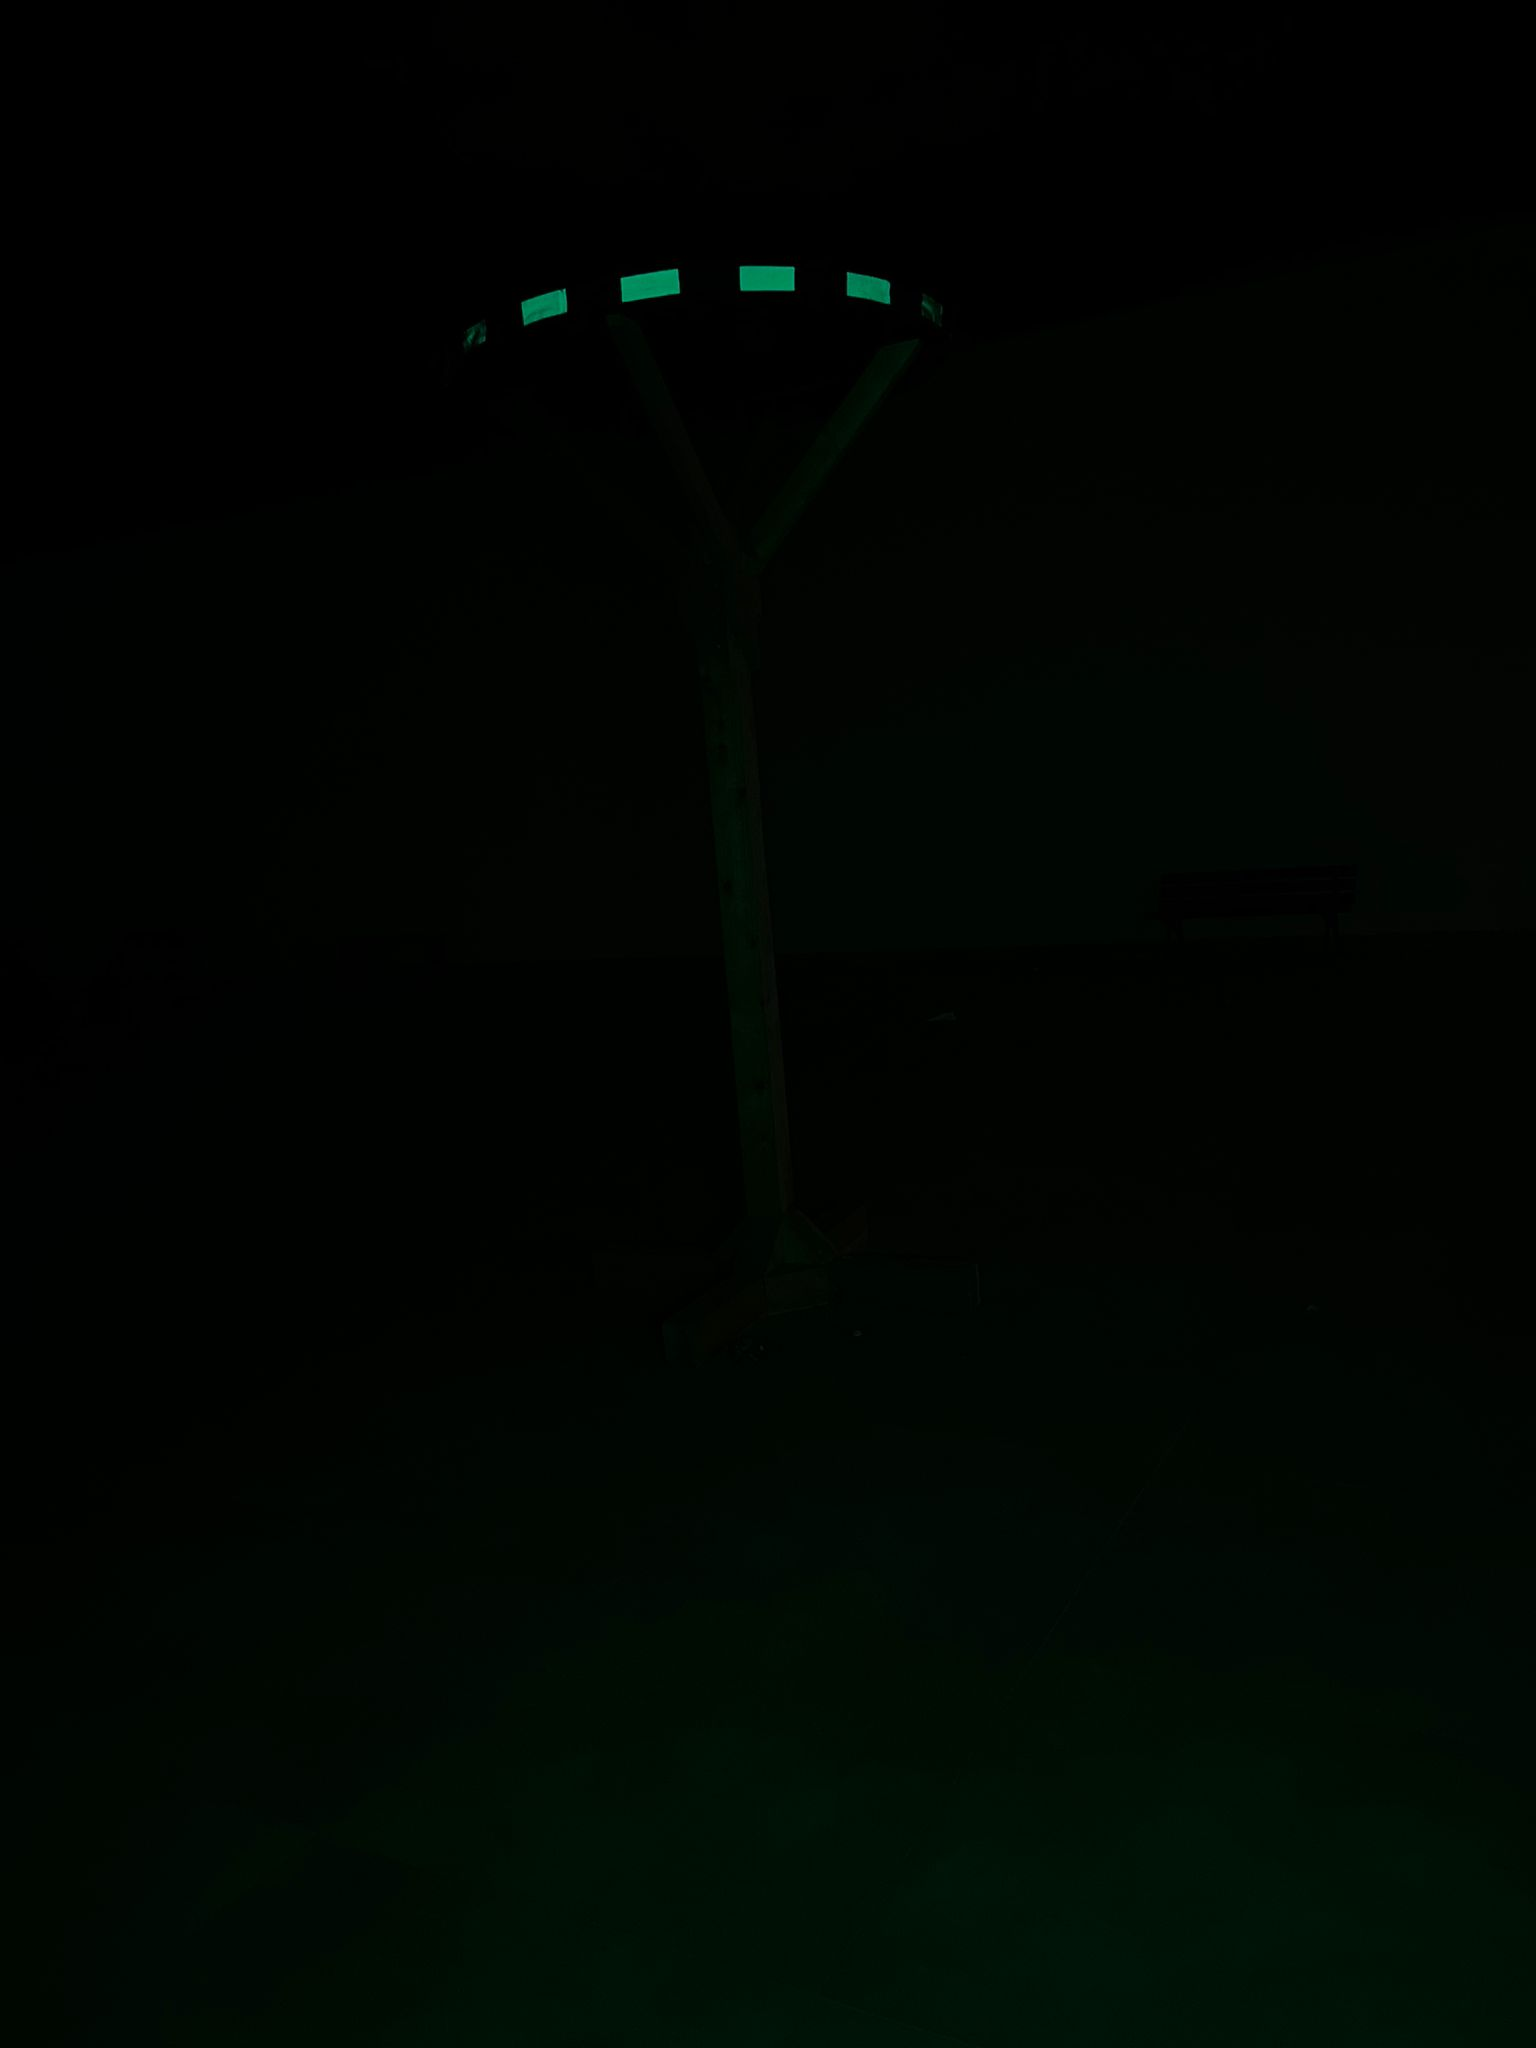hoop: (461, 256, 950, 350)
